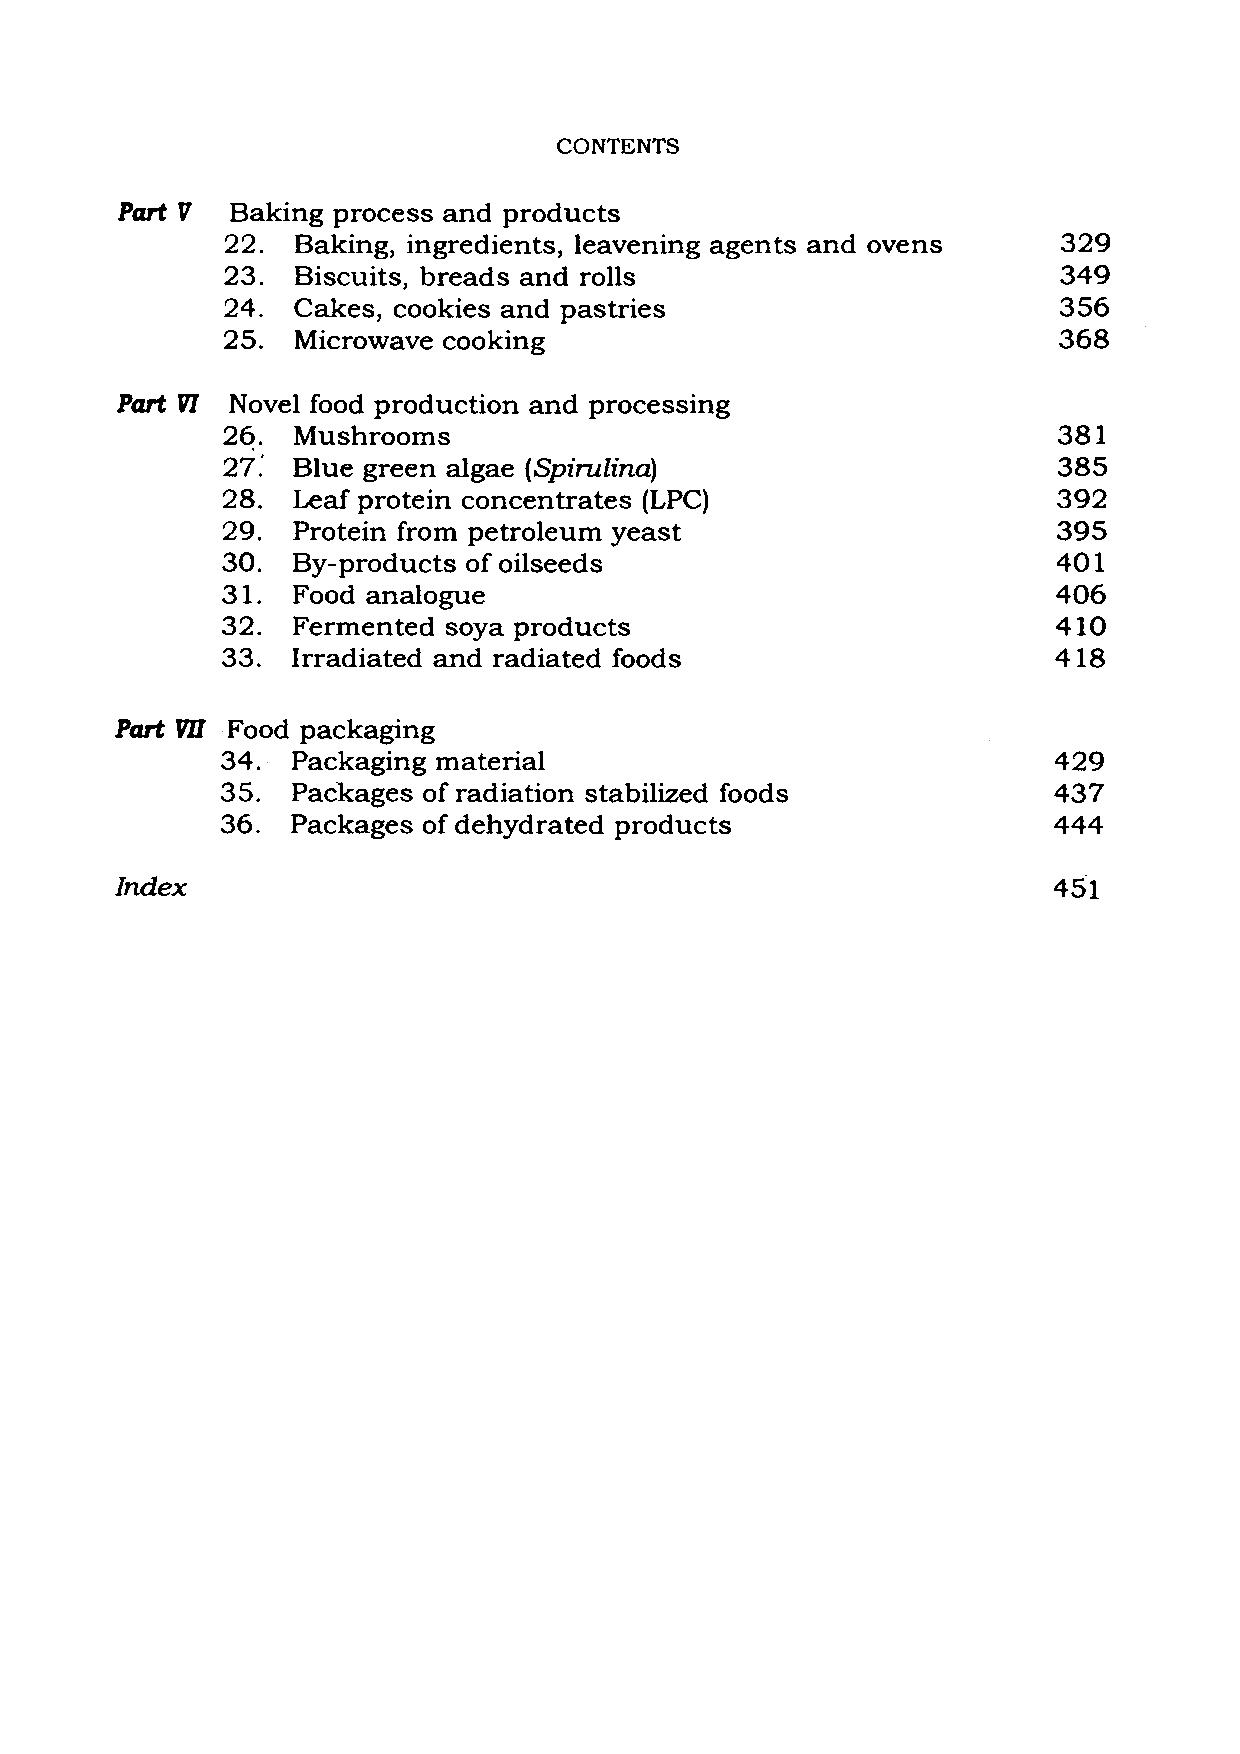TOC_chapter: (224, 229, 953, 259), (105, 183, 621, 223), (111, 388, 738, 417), (215, 774, 797, 805), (221, 807, 733, 841), (221, 515, 688, 549), (217, 546, 607, 580), (217, 455, 658, 484), (221, 262, 641, 291), (221, 293, 676, 319), (215, 484, 706, 509), (223, 641, 684, 667), (221, 609, 631, 637), (114, 710, 446, 743), (217, 746, 553, 772), (221, 327, 556, 349), (217, 582, 488, 608), (221, 425, 456, 450), (117, 870, 187, 898)
TOC_pagenumber: (1053, 776, 1111, 808), (1051, 807, 1110, 837), (1053, 609, 1110, 641), (1053, 874, 1104, 909), (1053, 223, 1113, 252), (1053, 323, 1114, 352), (1056, 545, 1107, 577), (1053, 450, 1111, 478), (1053, 513, 1108, 542), (1053, 482, 1110, 510), (1053, 643, 1108, 671), (1053, 746, 1108, 774), (1059, 258, 1117, 285), (1056, 417, 1108, 446), (1057, 582, 1111, 607), (1062, 293, 1113, 317)
chapter: (545, 126, 684, 162)
